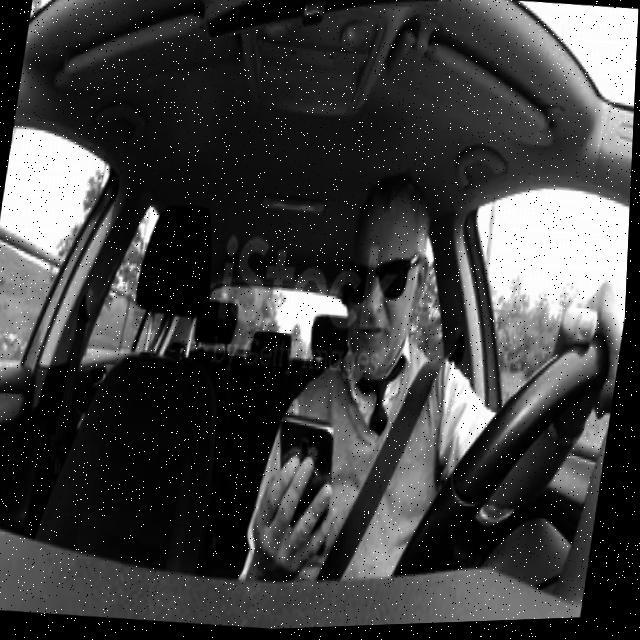PhoneCall: (263, 410, 350, 565)
